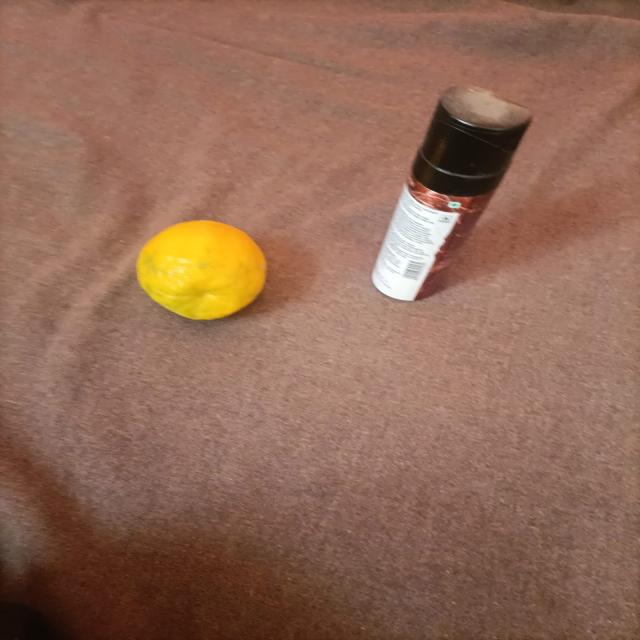orange: (116, 216, 290, 336)
spray: (323, 46, 579, 324)
